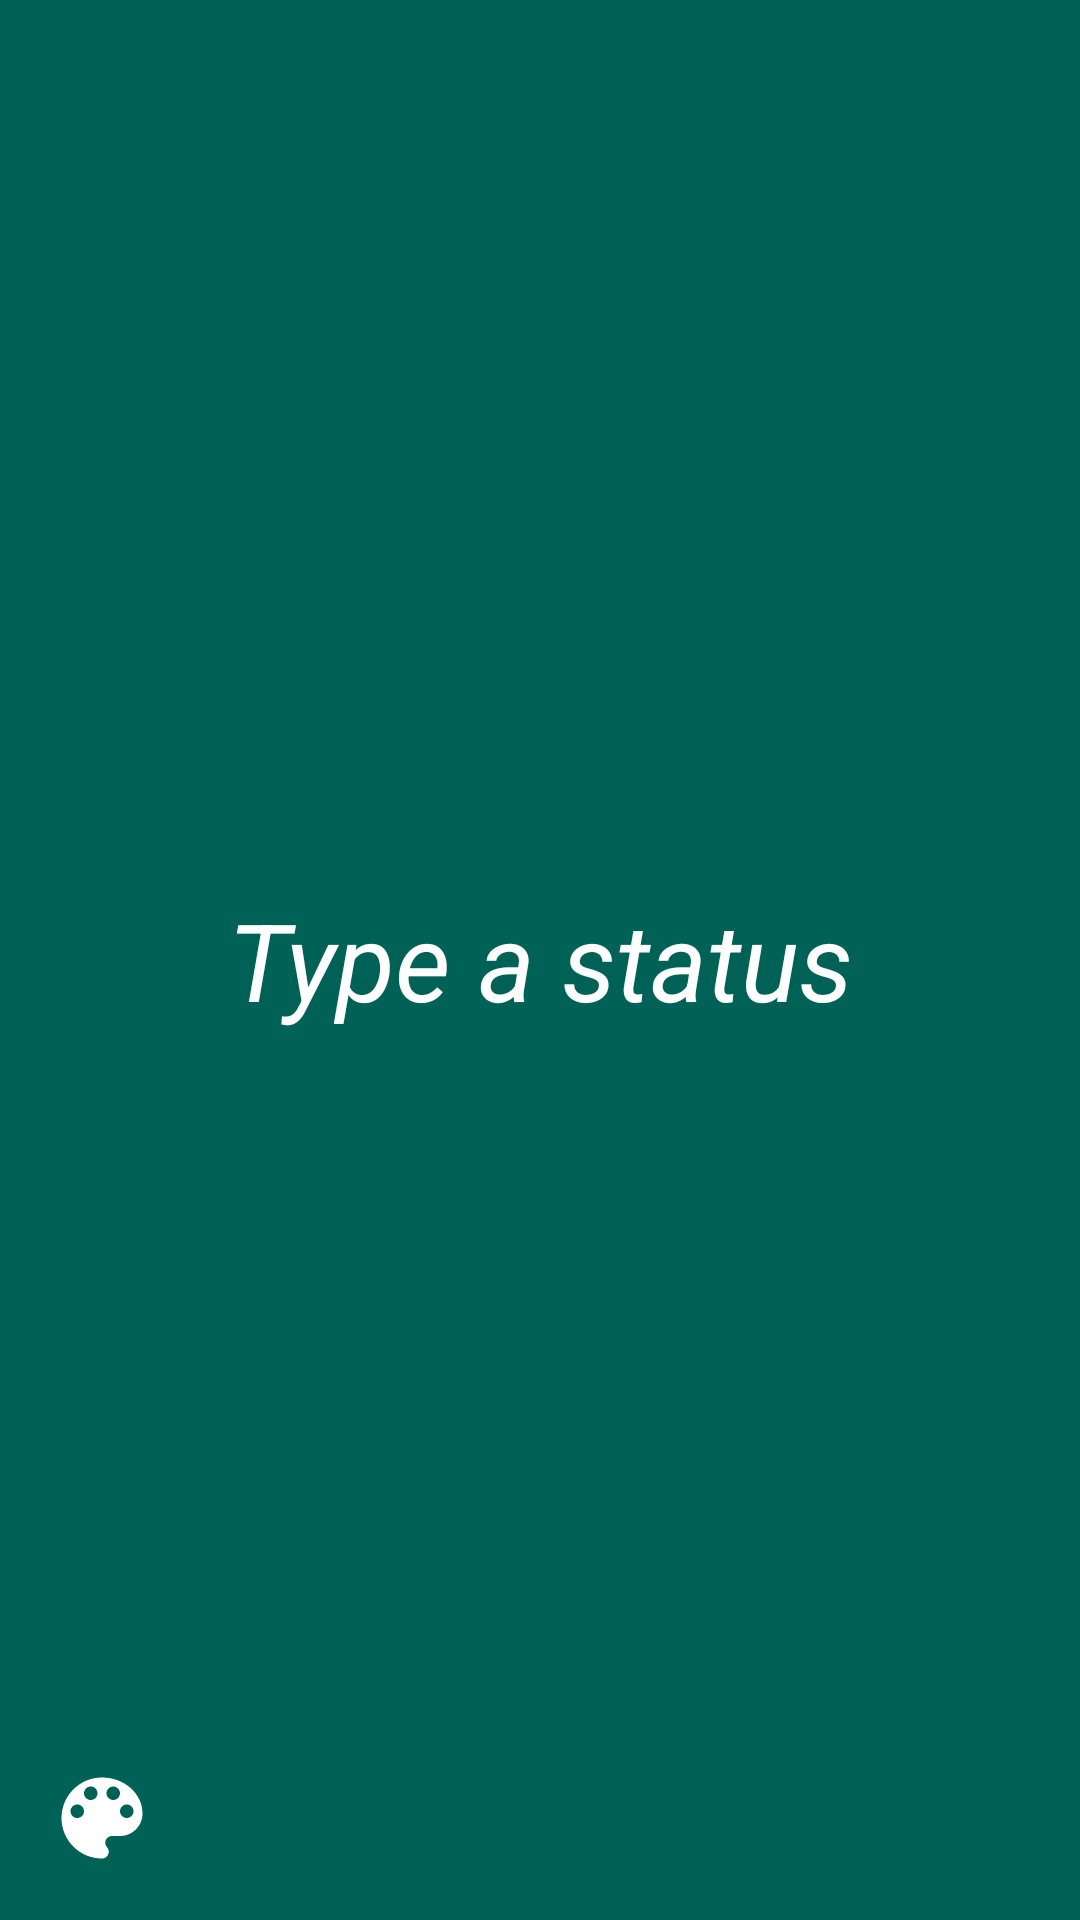

Point at icon controls on the screen. Image size 1080px×1920px, points as [x,y].
palette: [102,1818]
